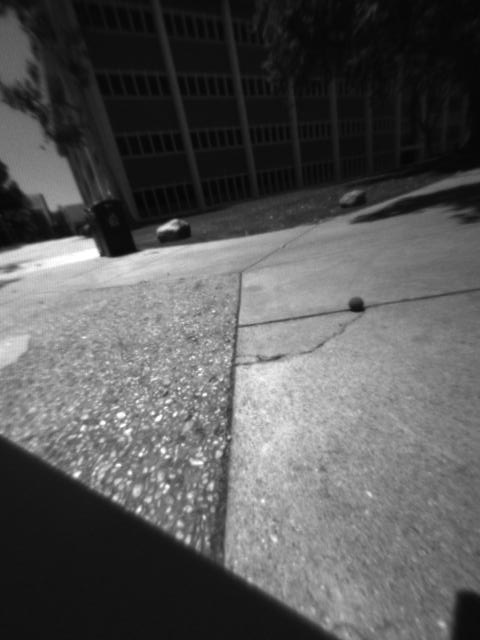dogtoy: (345, 290, 371, 319)
